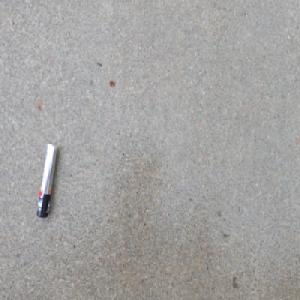Battery: (35, 140, 58, 220)
